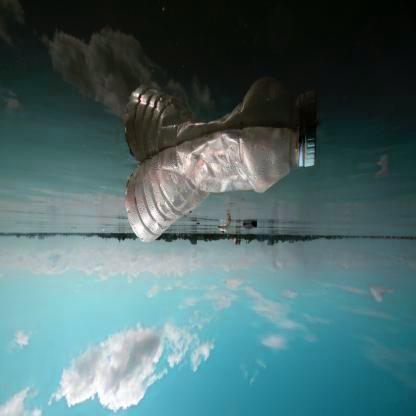Plastic: (122, 115, 318, 247)
